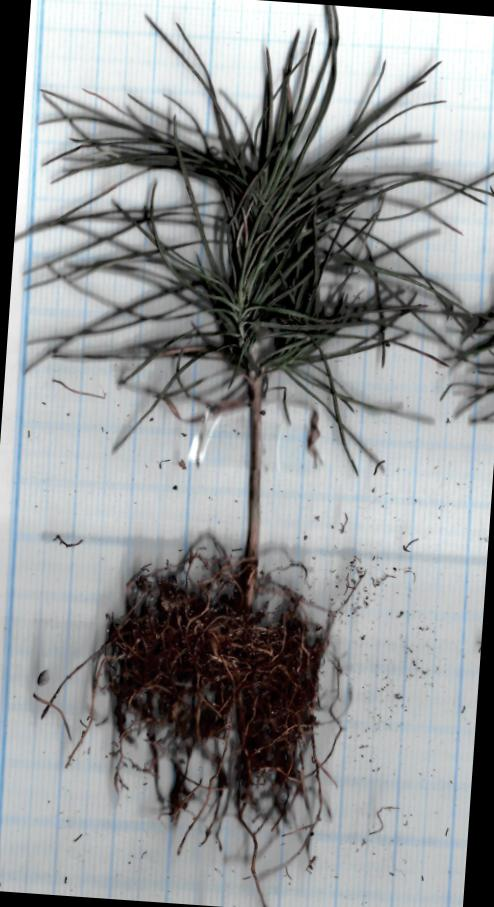flower: (27, 5, 485, 463)
root: (41, 549, 341, 906)
stem: (246, 377, 262, 566)
